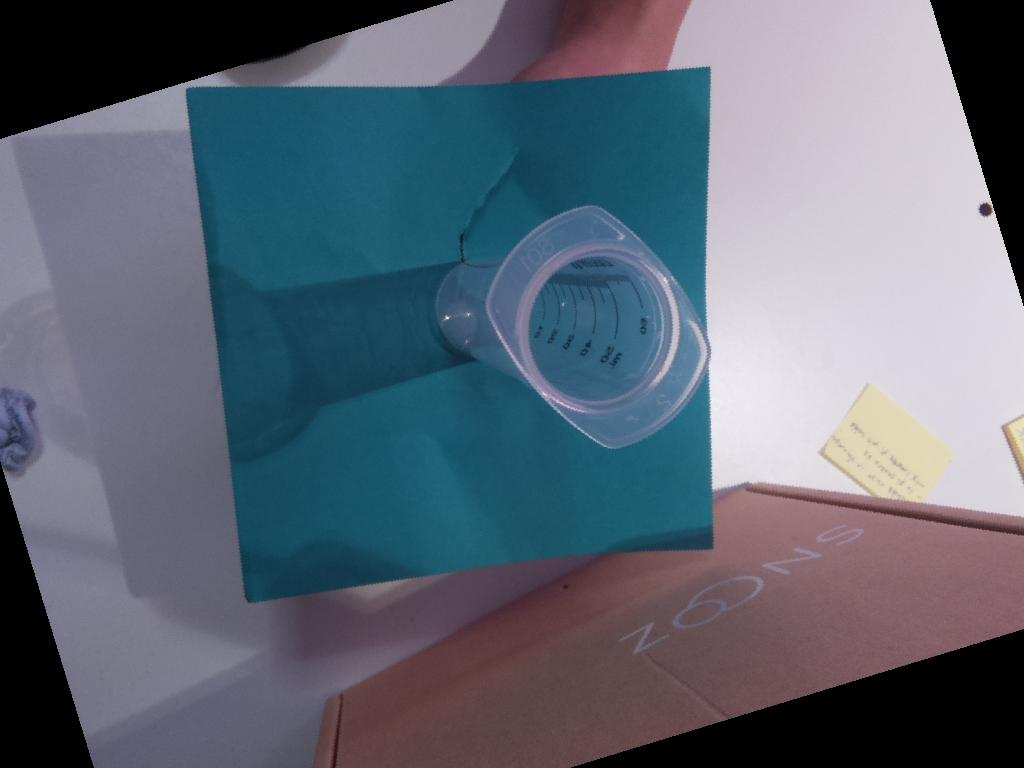clean: (485, 205, 711, 449)
